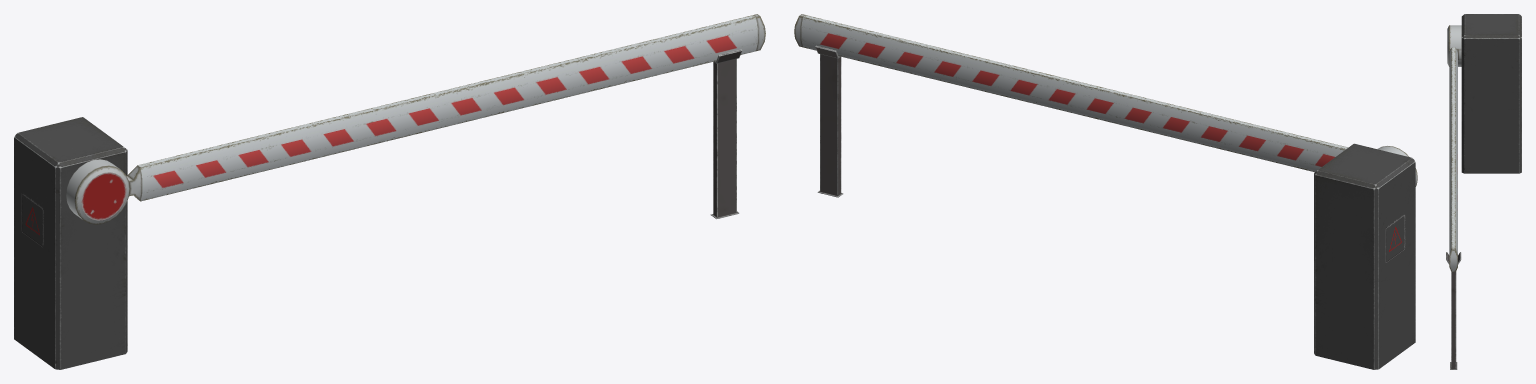
File: road_barrier.glb
3 views of the same model, side by side, from view 1: azimuth 30°, elevation 25°; view 2: azimuth 150°, elevation 25°; view 3: azimuth 270°, elevation 25° (orthographic). The views are drawn at different scales.
Parts seen in each view (by area): view 1: Slug_low_0; view 2: Slug_low_0; view 3: Slug_low_0.
Part boxes in pixels (x1,y1,x2,y2): Slug_low_0: (14, 14, 765, 369); Slug_low_0: (794, 14, 1417, 369); Slug_low_0: (1446, 14, 1521, 369).
Bounding box in the file's own units: 4.25 × 1.2 × 0.5988.
Materials: 1 (1 with a texture image).
